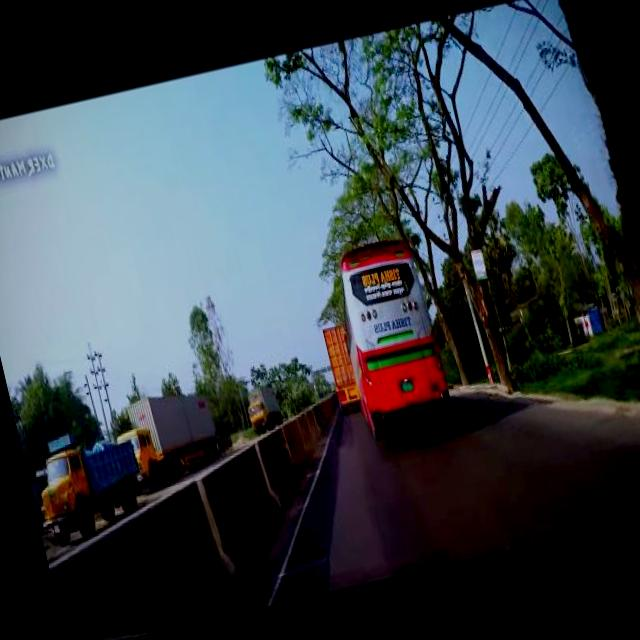bus: (323, 227, 459, 444)
truck: (24, 425, 154, 547), (122, 382, 230, 498), (318, 318, 365, 418), (240, 375, 288, 434)
